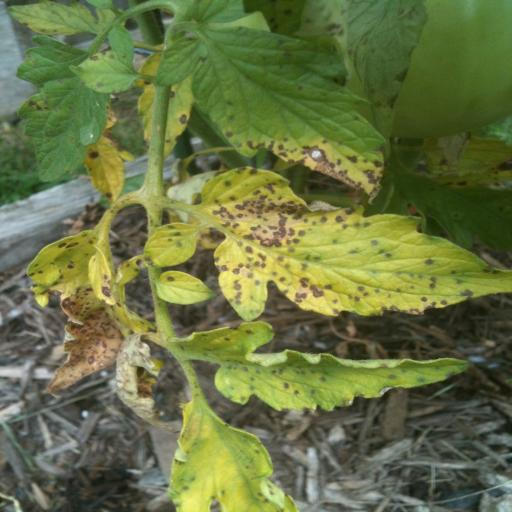disease_tomato: (195, 164, 512, 324), (154, 18, 388, 206), (170, 317, 474, 413), (18, 226, 142, 398), (166, 398, 298, 512), (15, 75, 109, 183), (66, 51, 140, 95), (144, 218, 200, 268), (155, 268, 221, 307)
